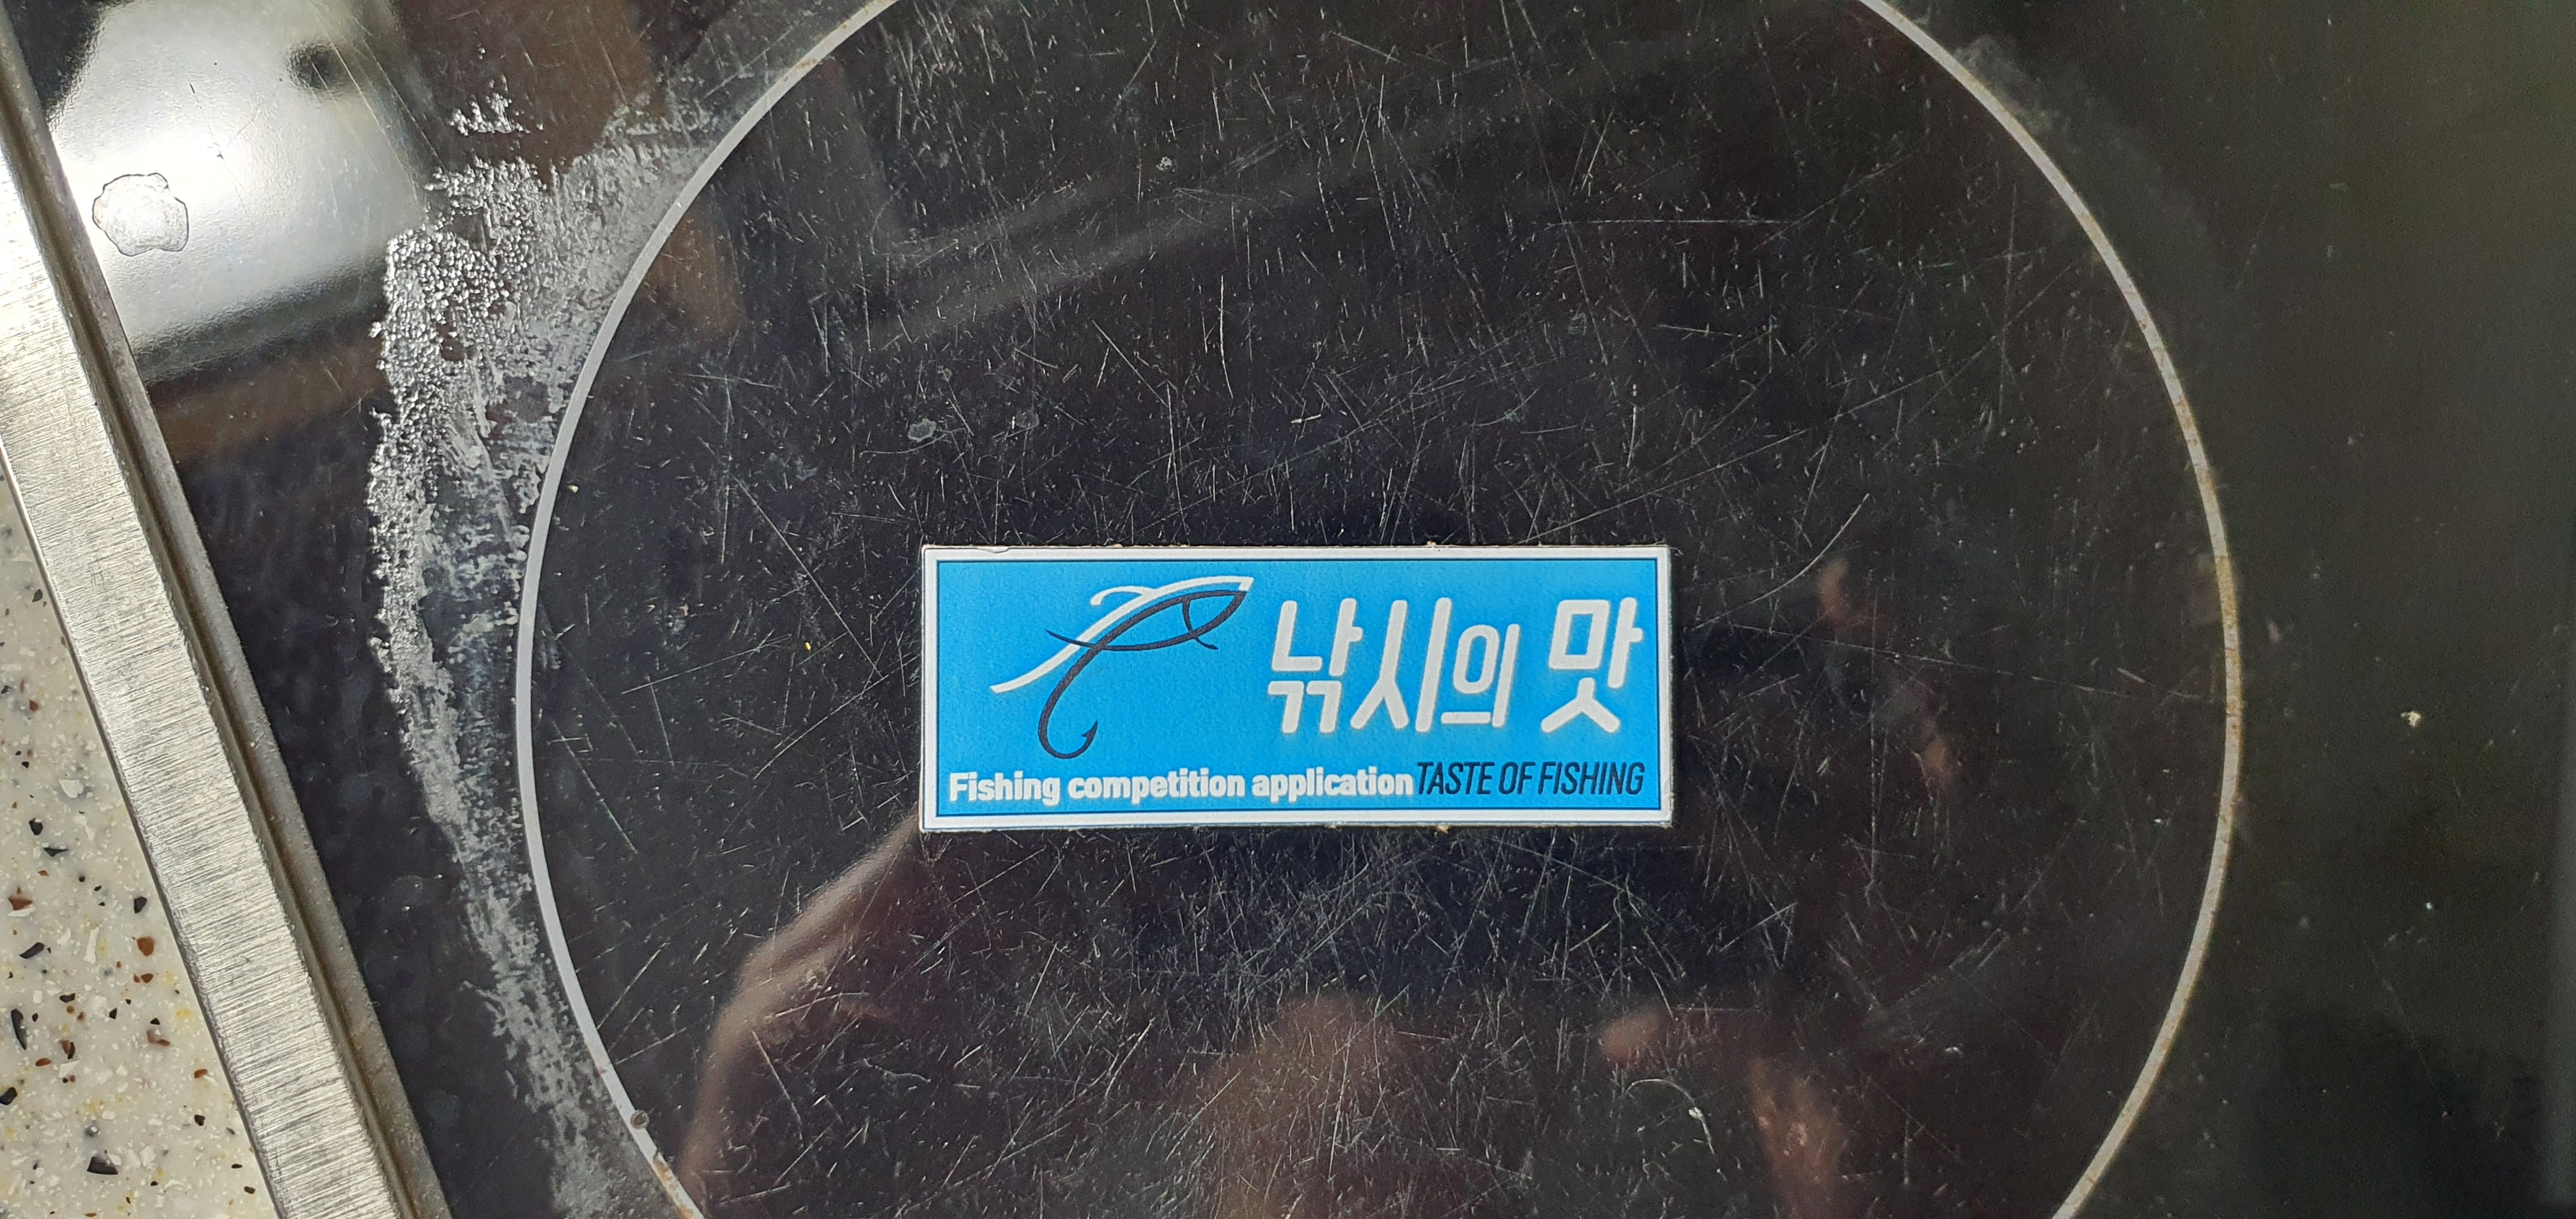tag: (922, 545, 1676, 826)
